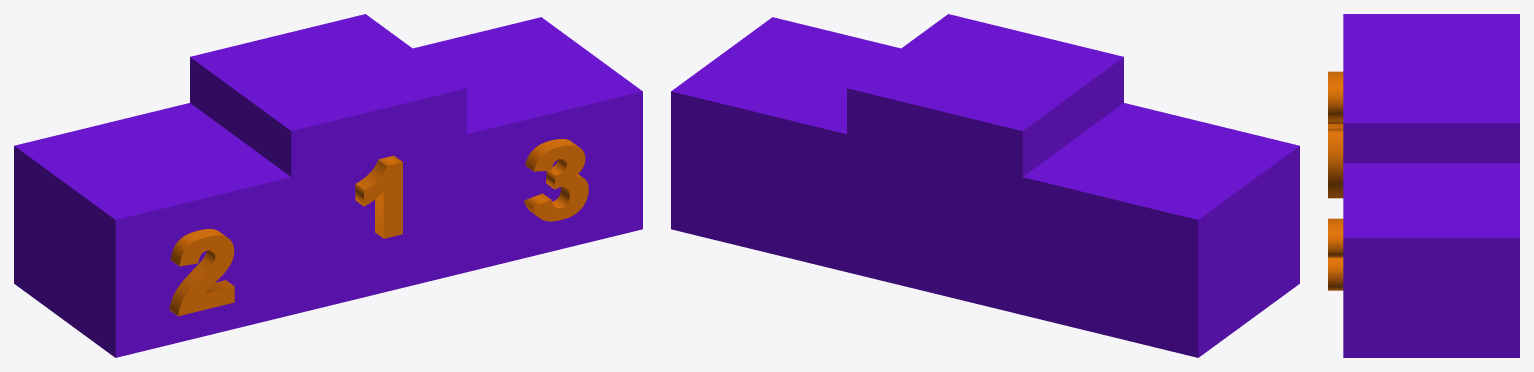
3 views of the same model, side by side, from view 1: azimuth 30°, elevation 25°; view 2: azimuth 150°, elevation 25°; view 3: azimuth 270°, elevation 25° (orthographic). The views are drawn at different scales.
Visible parts, largest first — view 1: Cube.002, podium, Cube.001; view 2: Cube.002, podium, Cube.001; view 3: Cube.001, podium, Cube.002.
Boxes of the visible parts, x1,y1,x2,y2 form: Cube.002: (14, 103, 291, 357); podium: (190, 14, 466, 314); Cube.001: (413, 17, 642, 271); Cube.002: (1022, 103, 1299, 357); podium: (847, 14, 1123, 314); Cube.001: (671, 17, 900, 271); Cube.001: (1328, 163, 1519, 357); podium: (1328, 48, 1519, 198); Cube.002: (1328, 14, 1519, 128).
Size of the model in its own units: 600 by 200 by 217.
